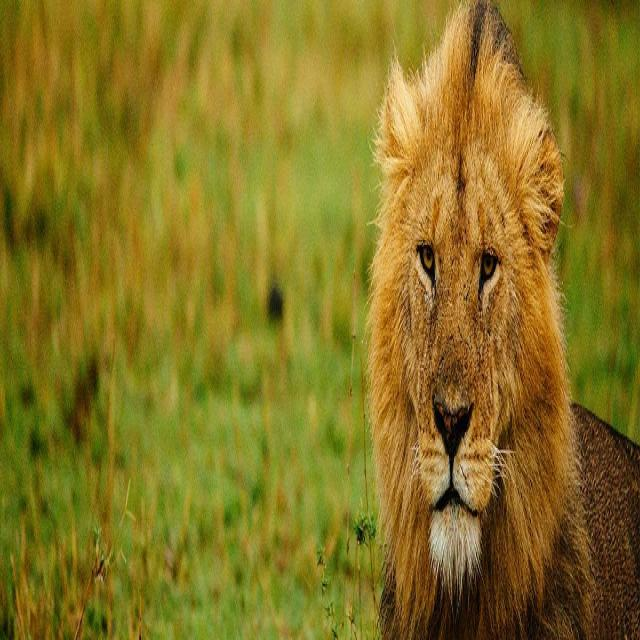Lion: (364, 0, 639, 637)
